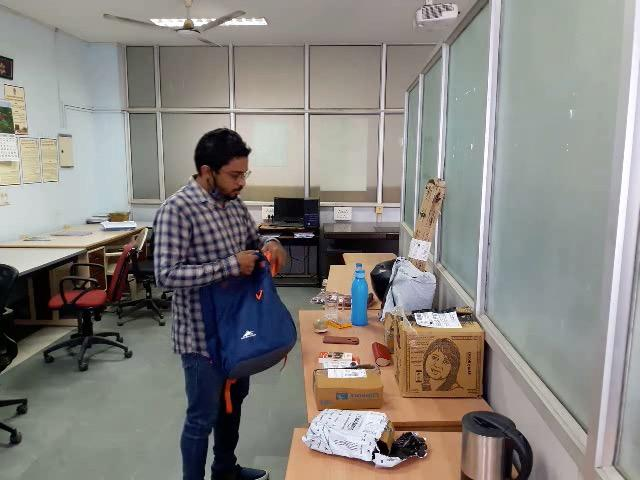shoplifting: (145, 227, 401, 375)
